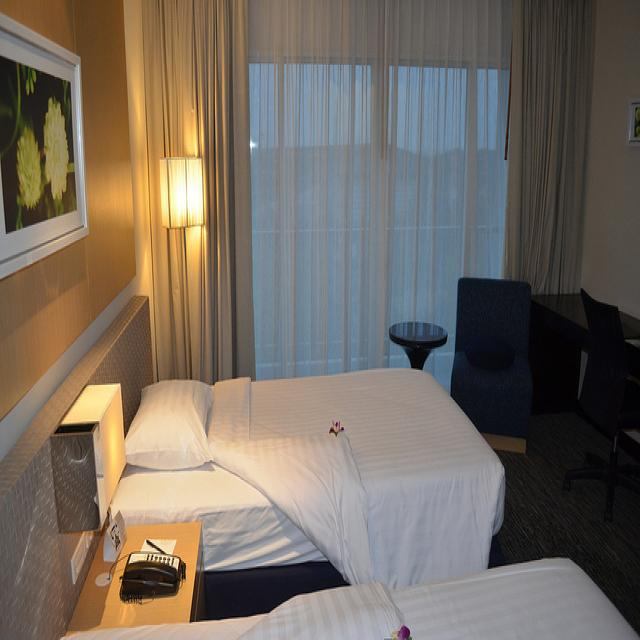chair: (560, 291, 640, 524), (450, 277, 532, 440)
dining table: (390, 321, 448, 370)
